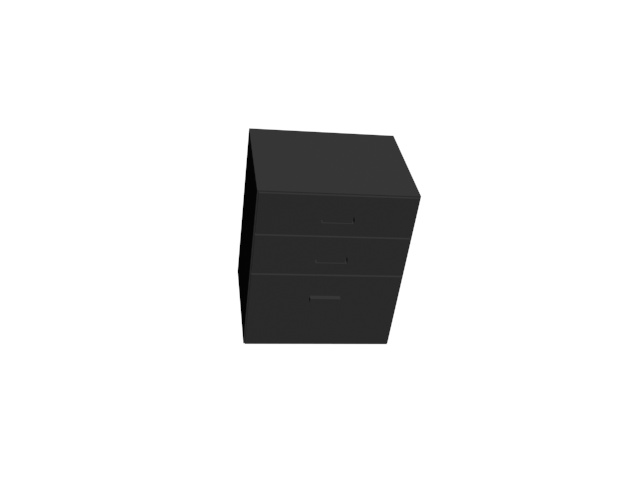file_cabinet: (233, 129, 424, 352)
